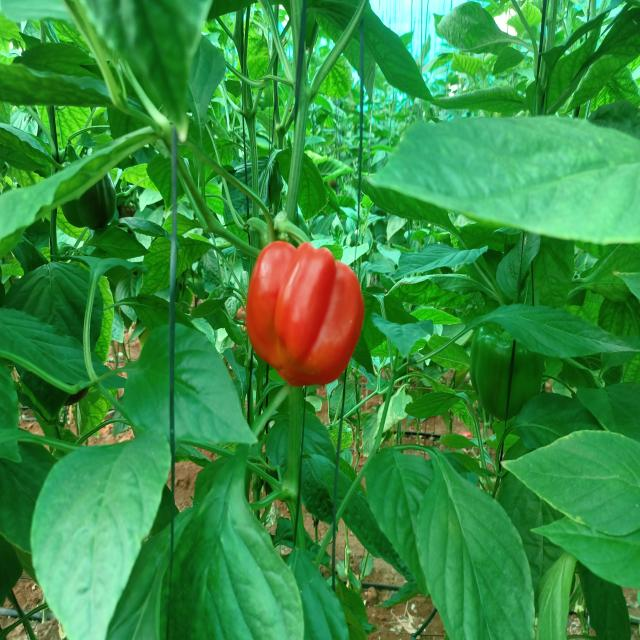Red-Ready-to-Harvest: (239, 235, 371, 396)
